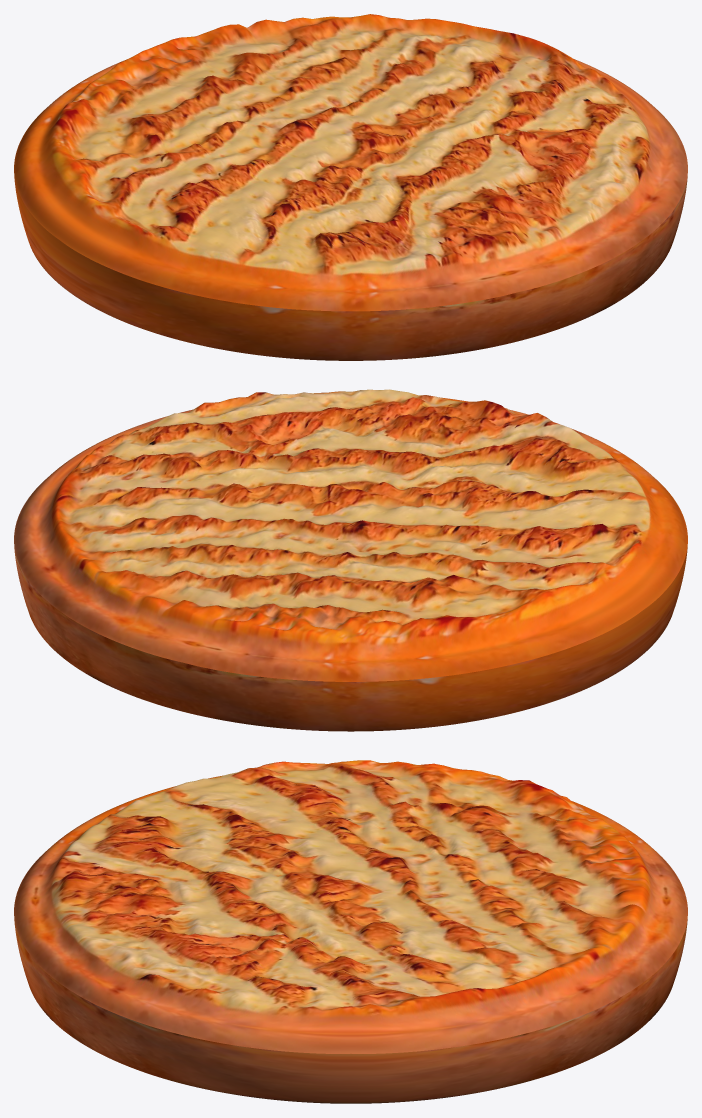
The model's file is pollo-requeson.glb.
3 renders of one model, top to bottom at view 1: azimuth 30°, elevation 25°; view 2: azimuth 150°, elevation 25°; view 3: azimuth 270°, elevation 25°, orthographic.
Parts seen in each view (by area): view 1: Pollo Requesón; view 2: Pollo Requesón; view 3: Pollo Requesón.
Part boxes in pixels (bbox=[...]): Pollo Requesón: bbox=[14, 14, 687, 360]; Pollo Requesón: bbox=[14, 389, 687, 731]; Pollo Requesón: bbox=[14, 760, 687, 1103].
Size of the model in its own units: 0.36 by 0.0547 by 0.36.
Materials: 2 (2 with a texture image).
